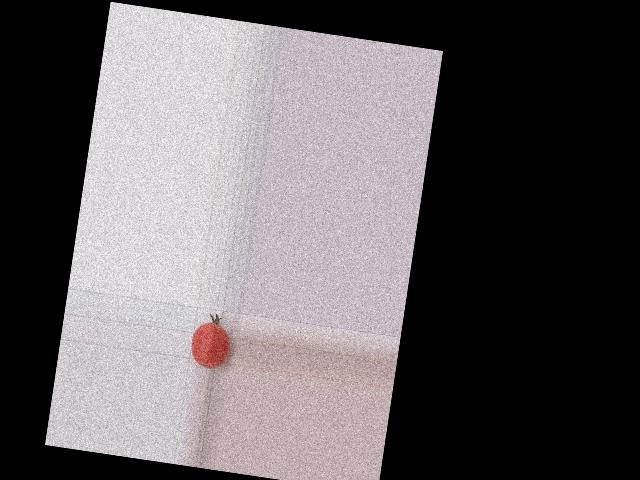tomato: (188, 320, 232, 370)
